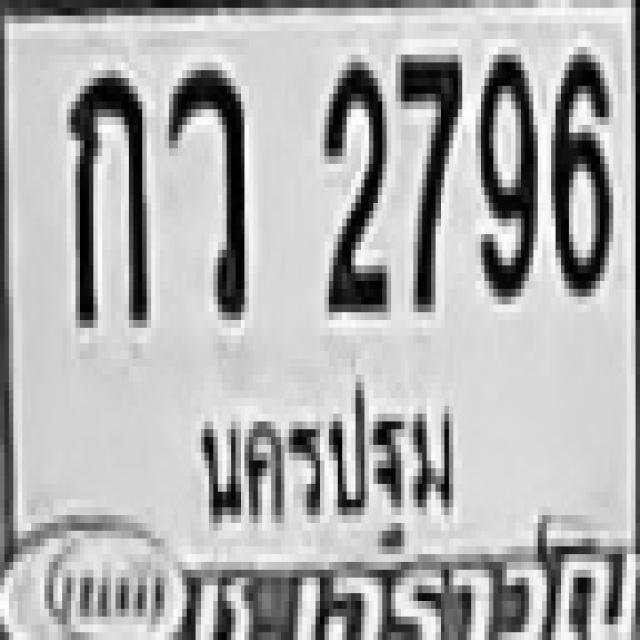10GorGai: (67, 62, 142, 320)
2: (320, 54, 382, 304)
46WorWaen: (164, 62, 240, 312)
6: (547, 47, 609, 289)
7: (396, 47, 458, 304)
9: (476, 46, 534, 296)
NakhonPathom: (183, 367, 469, 561)
